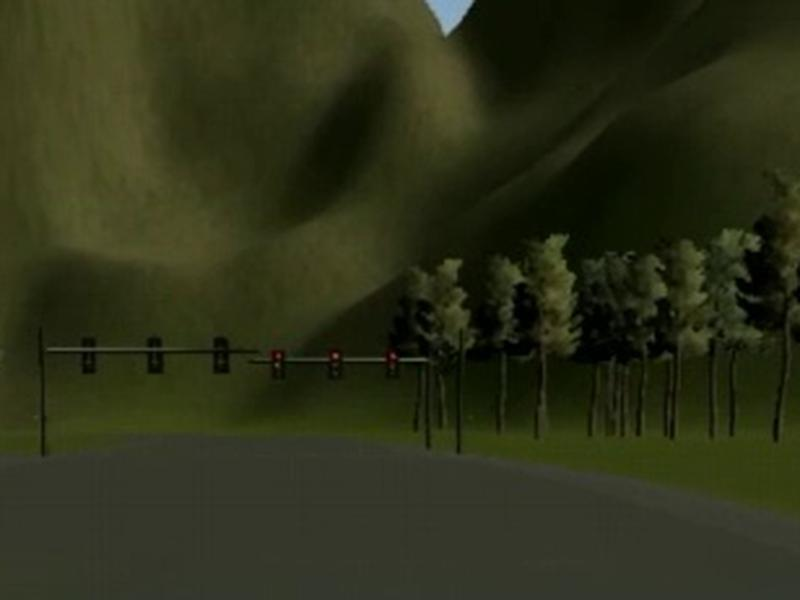Red: (330, 349, 343, 381), (386, 349, 399, 380), (273, 349, 286, 378)
